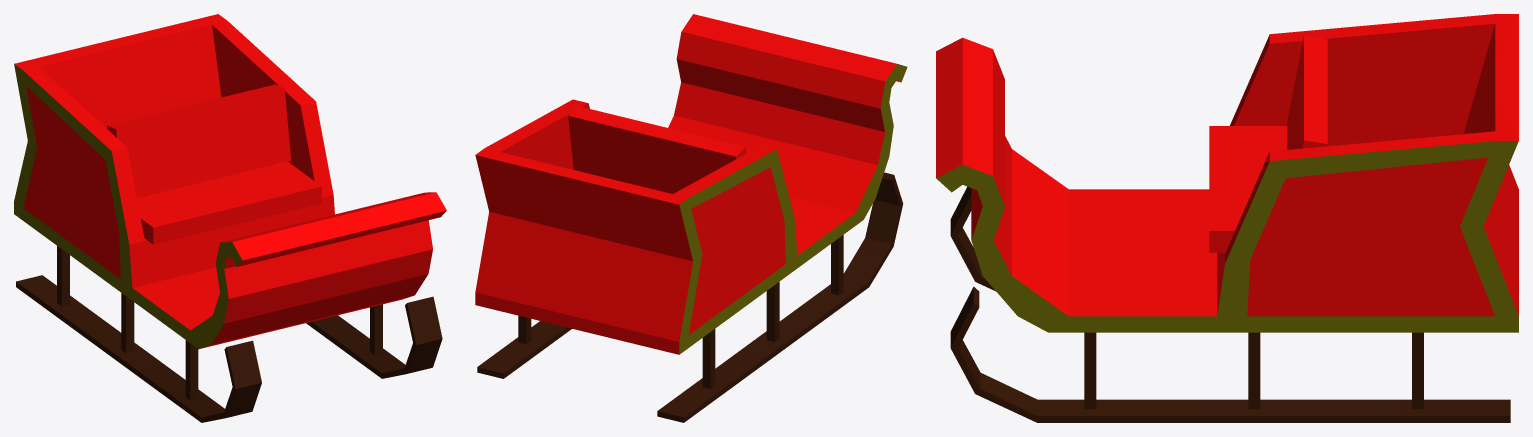
The model's file is sleigh.FBX.
The picture shows the model from 3 angles, left to right: view 1: azimuth 30°, elevation 25°; view 2: azimuth 150°, elevation 25°; view 3: azimuth 270°, elevation 25°; orthographic projection. The views are drawn at different scales.
Parts seen in each view (by area): view 1: sleigh; view 2: sleigh; view 3: sleigh.
Part boxes in pixels (x1=…): sleigh: x1=14, y1=14, x2=446, y2=422; sleigh: x1=475, y1=14, x2=907, y2=422; sleigh: x1=936, y1=14, x2=1518, y2=422.
Bounding box in the file's own units: 59.81 × 60.92 × 114.
